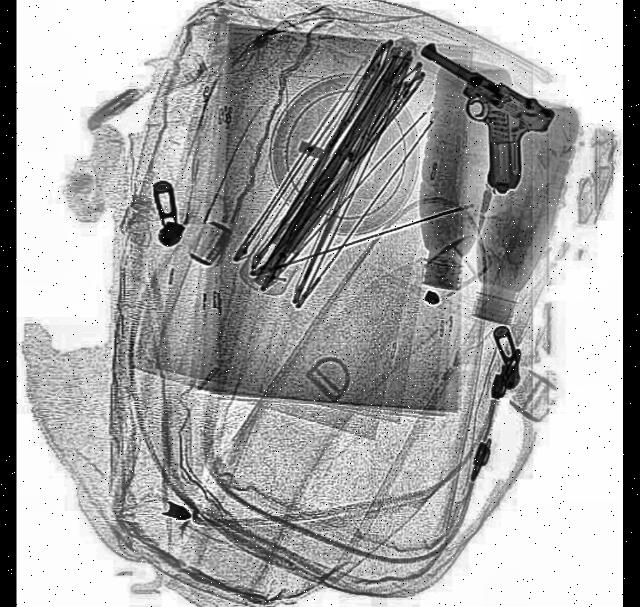Gun: (386, 40, 557, 206)
